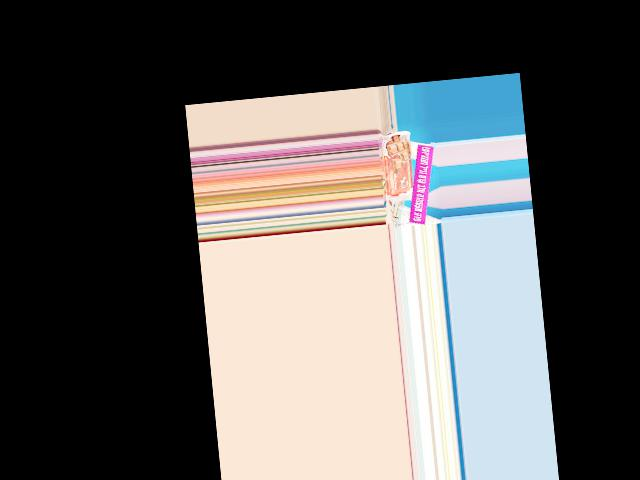chocolate: (379, 128, 417, 204)
